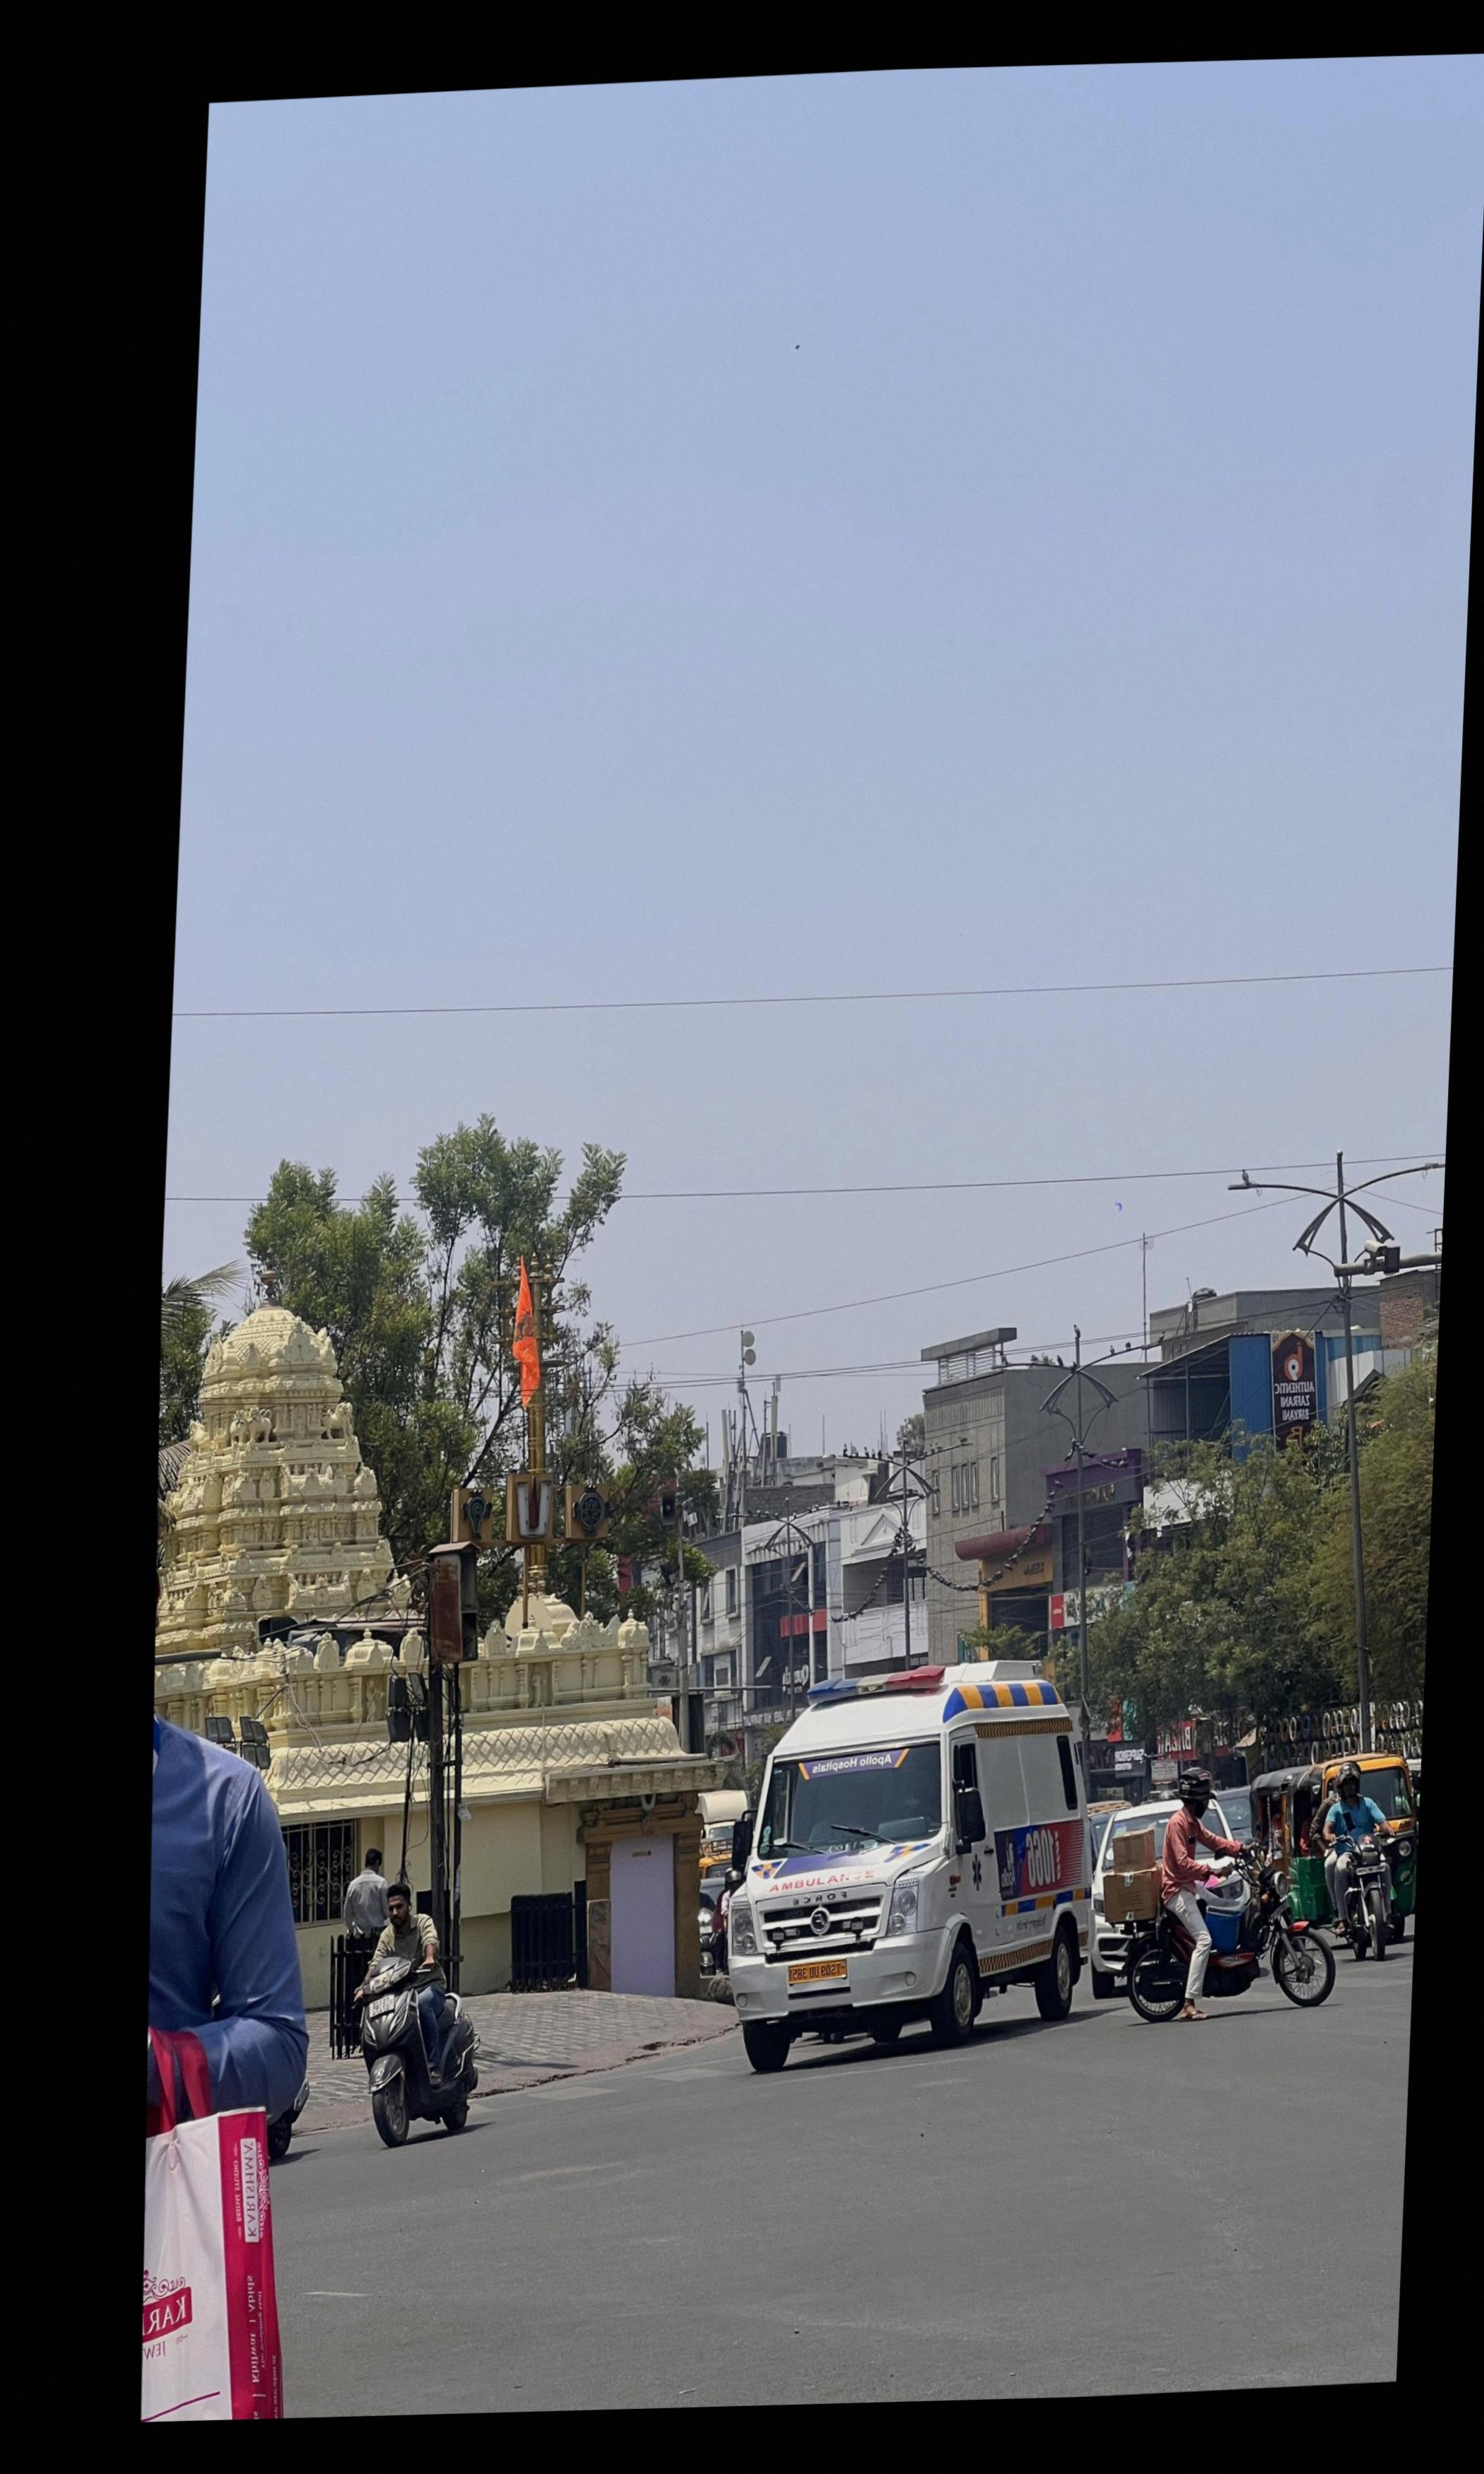ambulance: (728, 1658, 1095, 2076)
